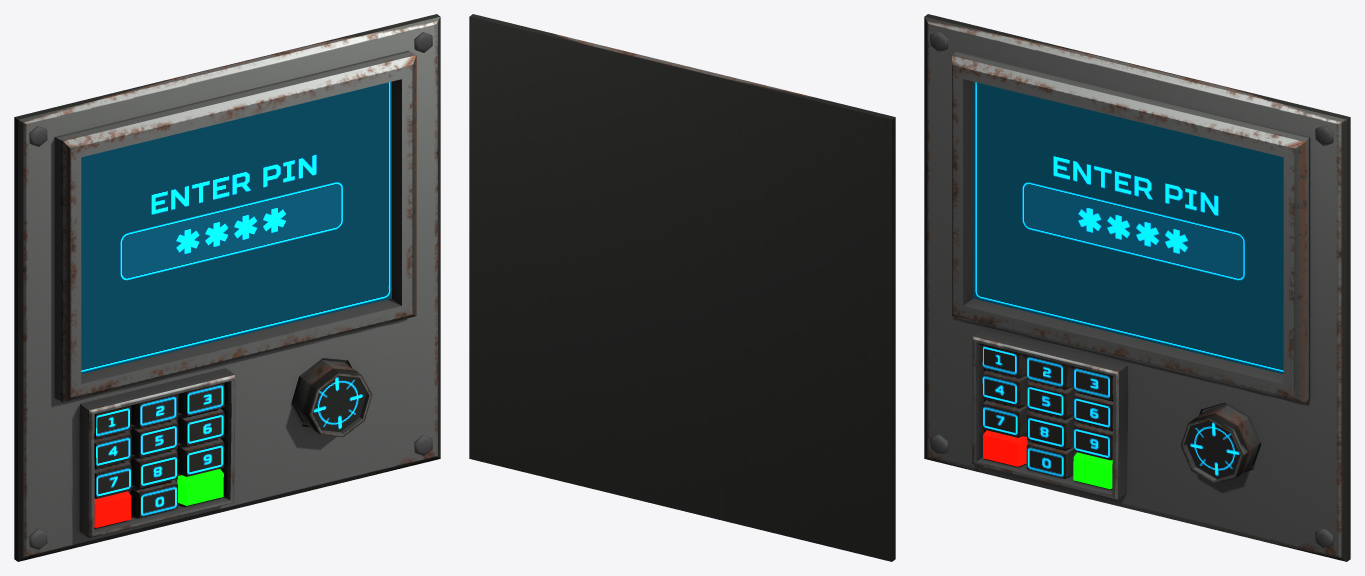
File: WallPanel.fbx
3 views of the same model, side by side, from view 1: azimuth 30°, elevation 25°; view 2: azimuth 150°, elevation 25°; view 3: azimuth 330°, elevation 25° (orthographic).
Visible parts, largest first — view 1: Cube; view 2: Cube; view 3: Cube.
Part boxes in pixels (x1=…): Cube: x1=14, y1=14, x2=440, y2=561; Cube: x1=469, y1=14, x2=895, y2=561; Cube: x1=924, y1=14, x2=1350, y2=561.
Bounding box in the file's own units: 200 × 200 × 17.51.
2 materials, 1 textured.
